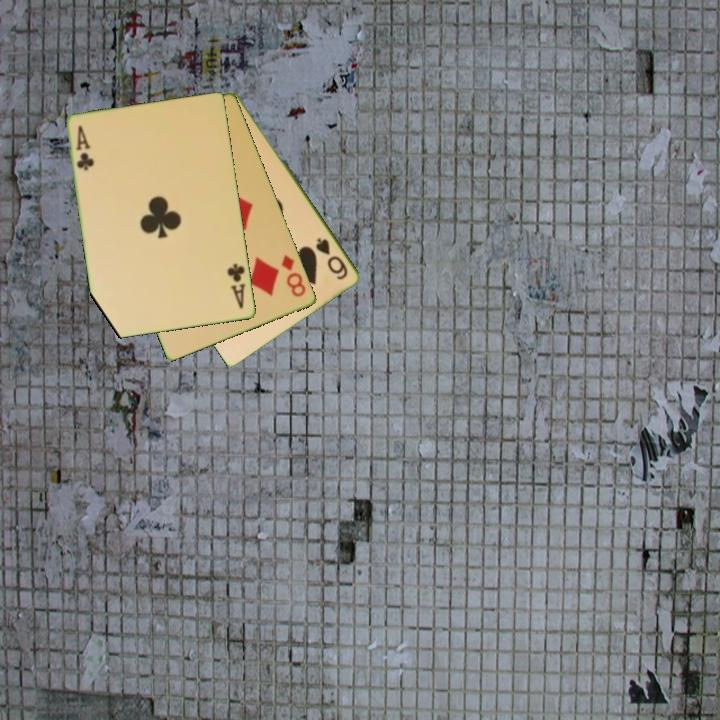6s: (312, 234, 351, 283)
8d: (278, 252, 309, 300)
Ac: (72, 122, 97, 174), (224, 261, 249, 311)
